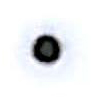cancer: (15, 13, 82, 82)
